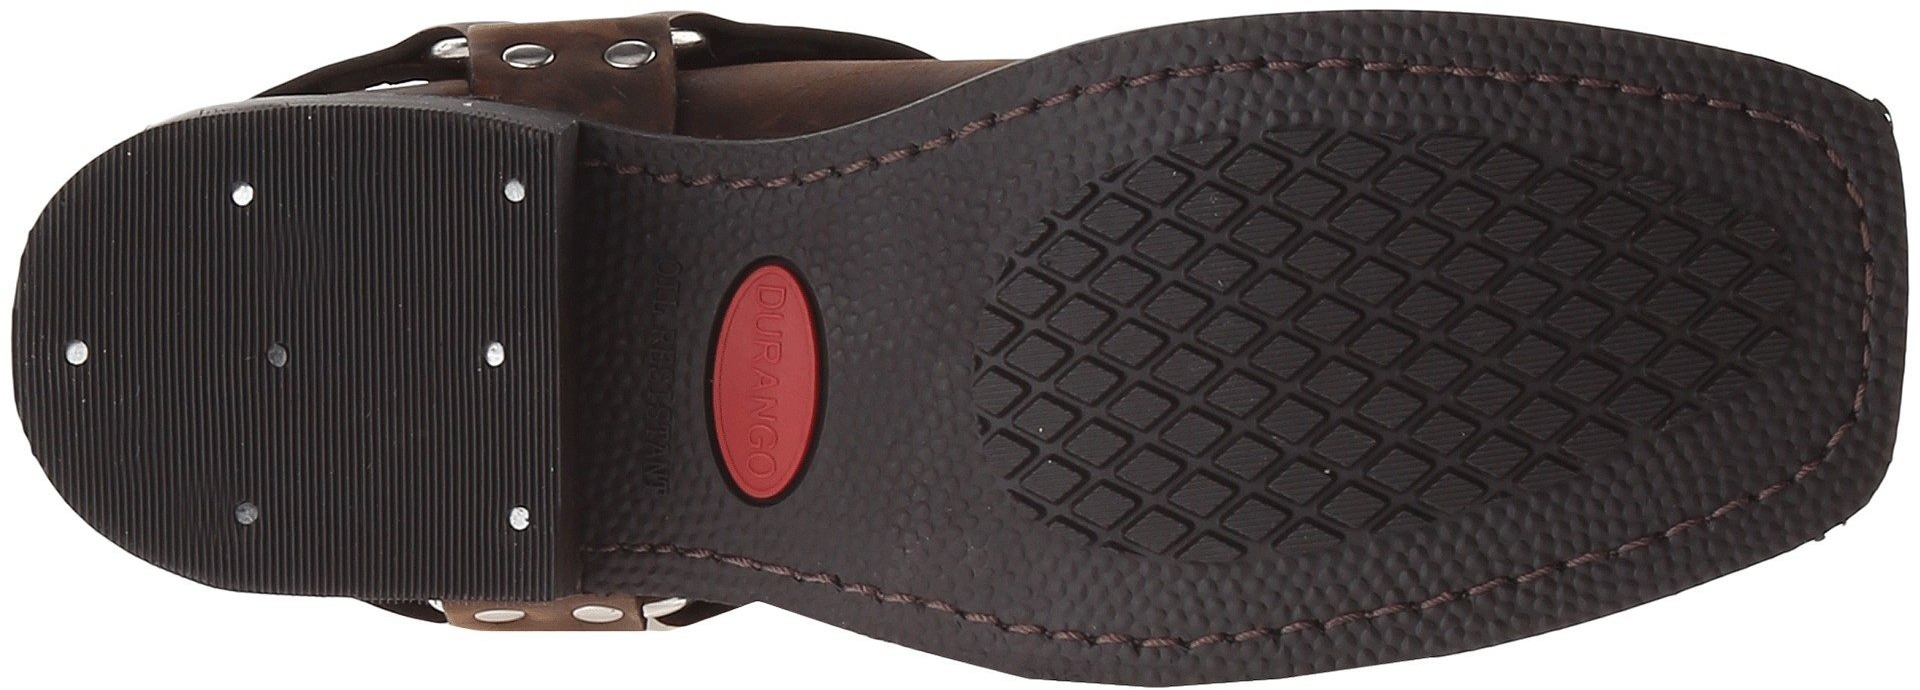circle: (699, 229, 853, 511)
other: (253, 369, 479, 587), (260, 143, 485, 333), (43, 368, 238, 533), (80, 175, 222, 317)
quad: (1016, 232, 1322, 547), (1319, 125, 1584, 362), (1591, 210, 1771, 376), (1327, 365, 1491, 508)
text: (733, 281, 798, 491)
